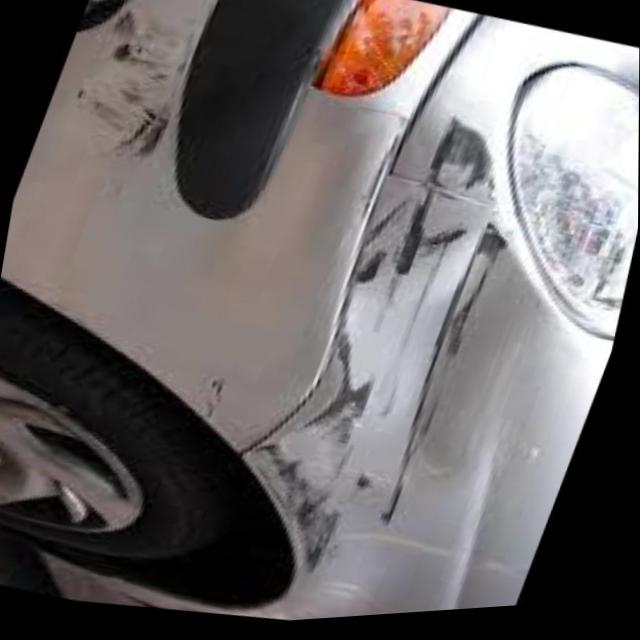Scratch: (225, 89, 525, 590), (61, 0, 202, 162)
